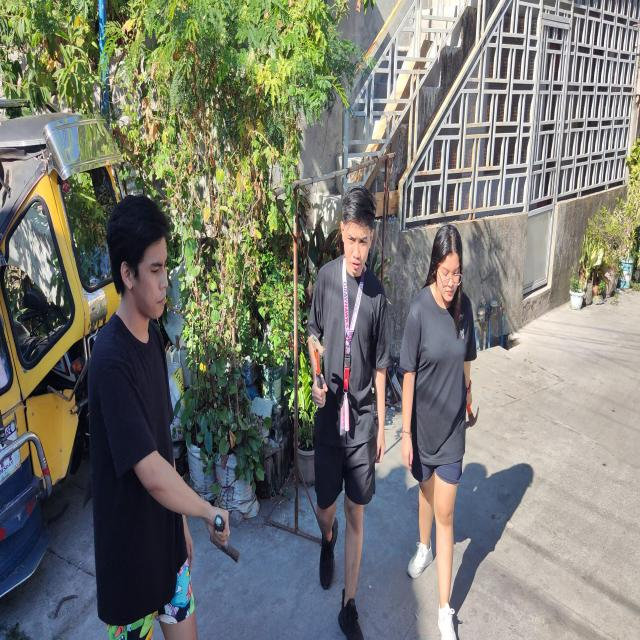hammer: (210, 514, 240, 563), (306, 334, 326, 390), (466, 403, 480, 429)
